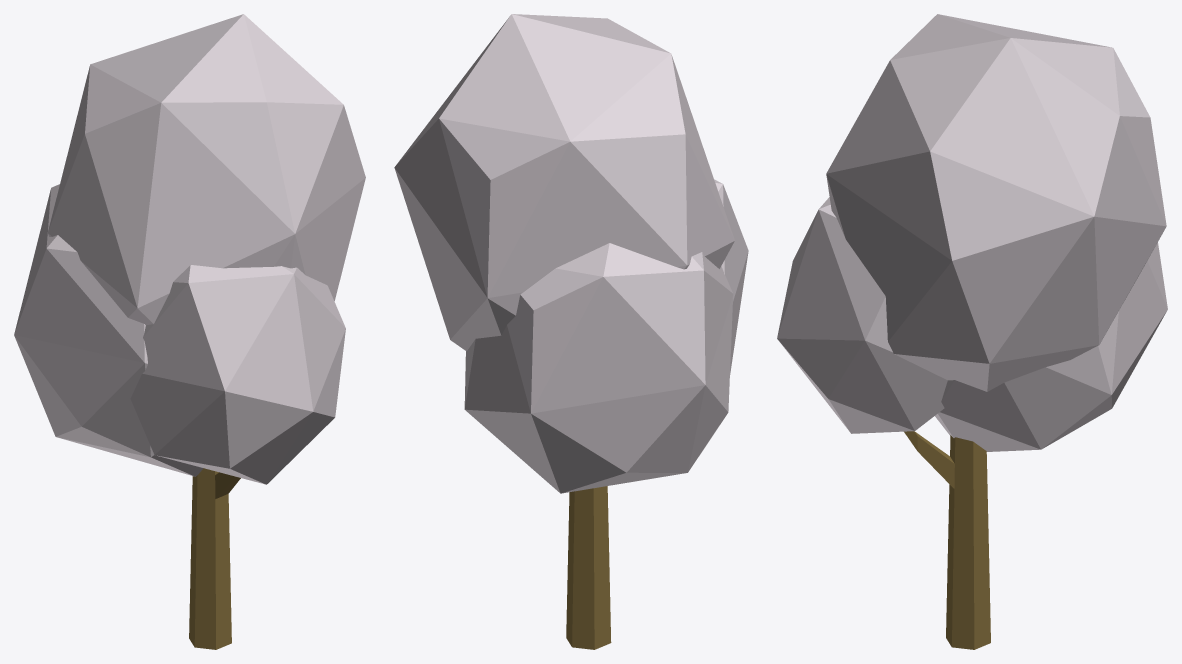
Rendered from Snowy Forest Tree 2.fbx.
3 views of the same model, side by side, from view 1: azimuth 30°, elevation 25°; view 2: azimuth 150°, elevation 25°; view 3: azimuth 270°, elevation 25° (orthographic). The views are drawn at different scales.
Visible parts, largest first — view 1: Icosphere.003, Cylinder.004; view 2: Icosphere.003, Cylinder.004; view 3: Icosphere.003, Cylinder.004.
Boxes of the visible parts, box(x1,y1,x2,y2) form: Icosphere.003: box(14, 14, 365, 484); Cylinder.004: box(189, 468, 240, 649); Icosphere.003: box(394, 14, 748, 493); Cylinder.004: box(566, 486, 611, 649); Icosphere.003: box(777, 14, 1167, 451); Cylinder.004: box(904, 431, 990, 649).
Bounding box in the file's own units: 769 × 1460 × 821.
